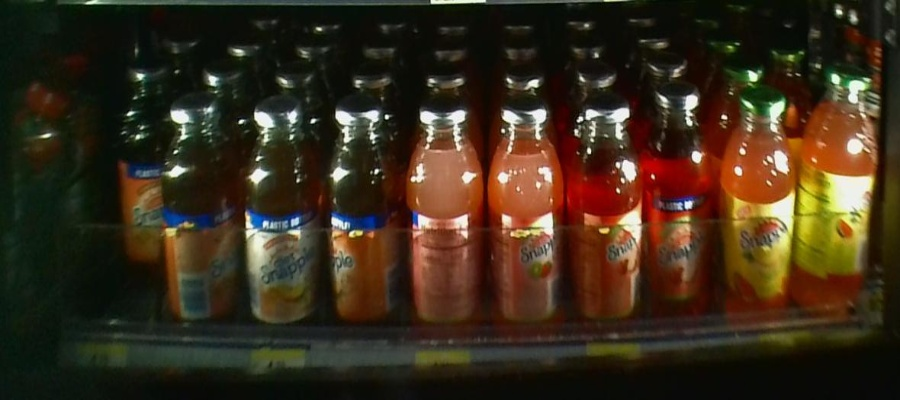bottle: (800, 57, 877, 328), (403, 100, 484, 345), (719, 87, 795, 340), (246, 78, 321, 334), (487, 107, 565, 343), (324, 93, 400, 332), (569, 94, 642, 342), (646, 76, 714, 332), (167, 99, 242, 331), (116, 57, 166, 276)
